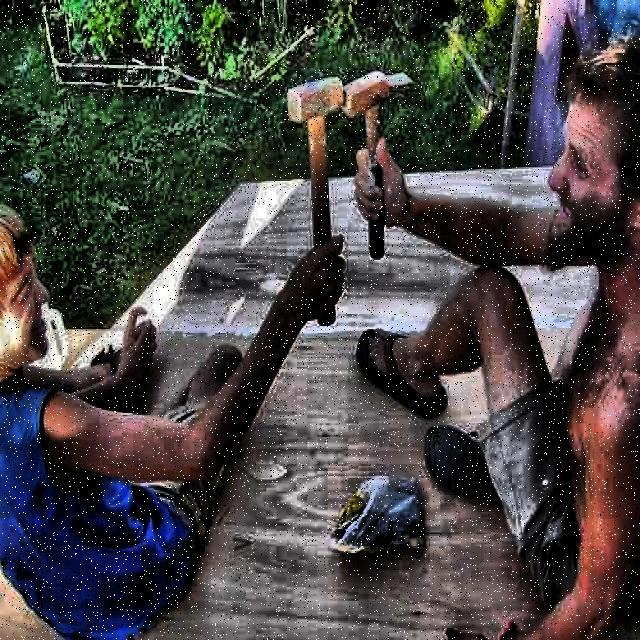hammer: (286, 76, 343, 324), (341, 65, 393, 265)
